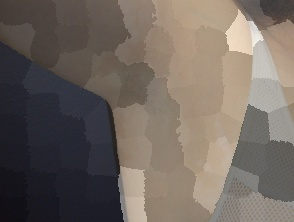vitiligo: (77, 0, 268, 222)
